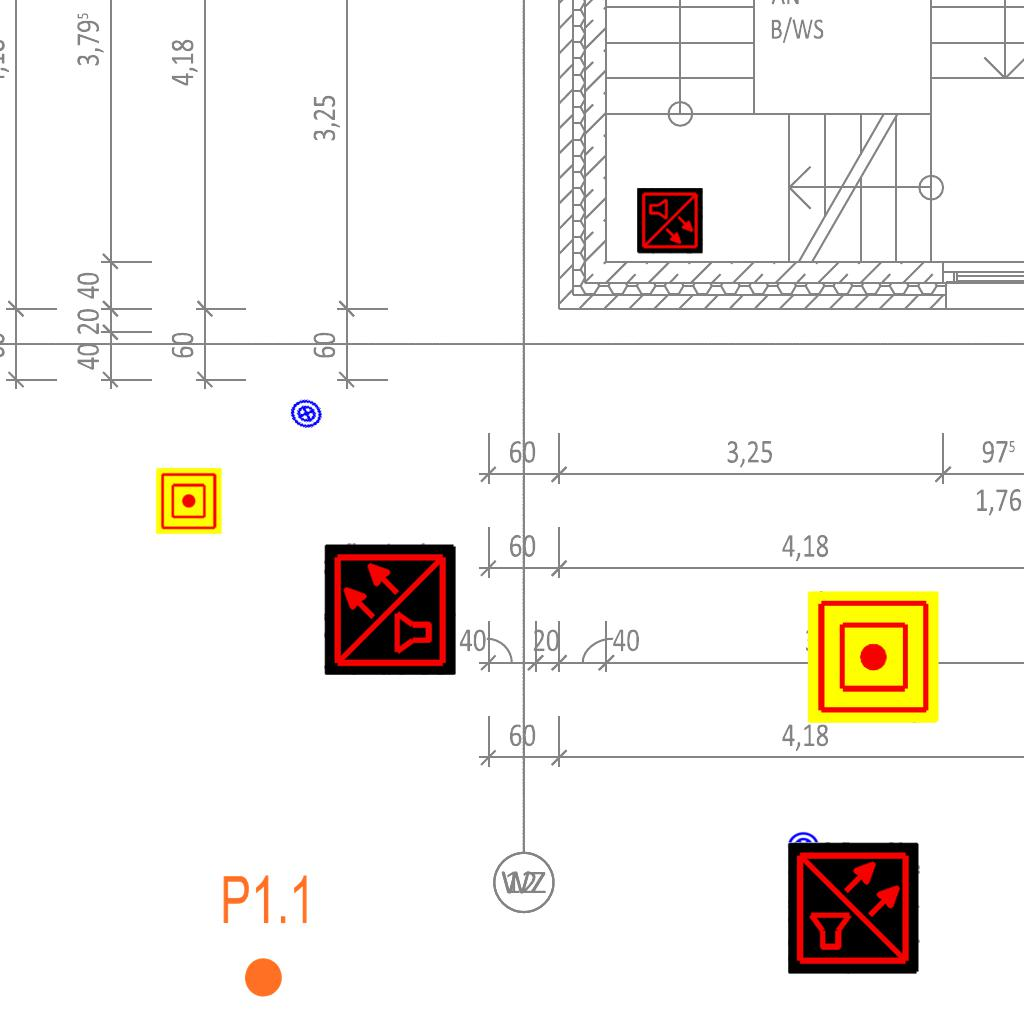Downlight_LED_Einbauleuchten_Flur: (220, 872, 313, 1000)
NAM-Nichtautomatischer_Melder: (807, 591, 939, 723), (156, 468, 222, 534)
OKW_Multisensormelder_(Kombination_optischer_Rauch-Kahlenmonoxid_Waerme-Melder): (324, 543, 456, 675), (788, 842, 920, 974), (637, 188, 703, 254)
Taster_beleuchtet: (285, 392, 328, 435), (787, 829, 820, 862)
